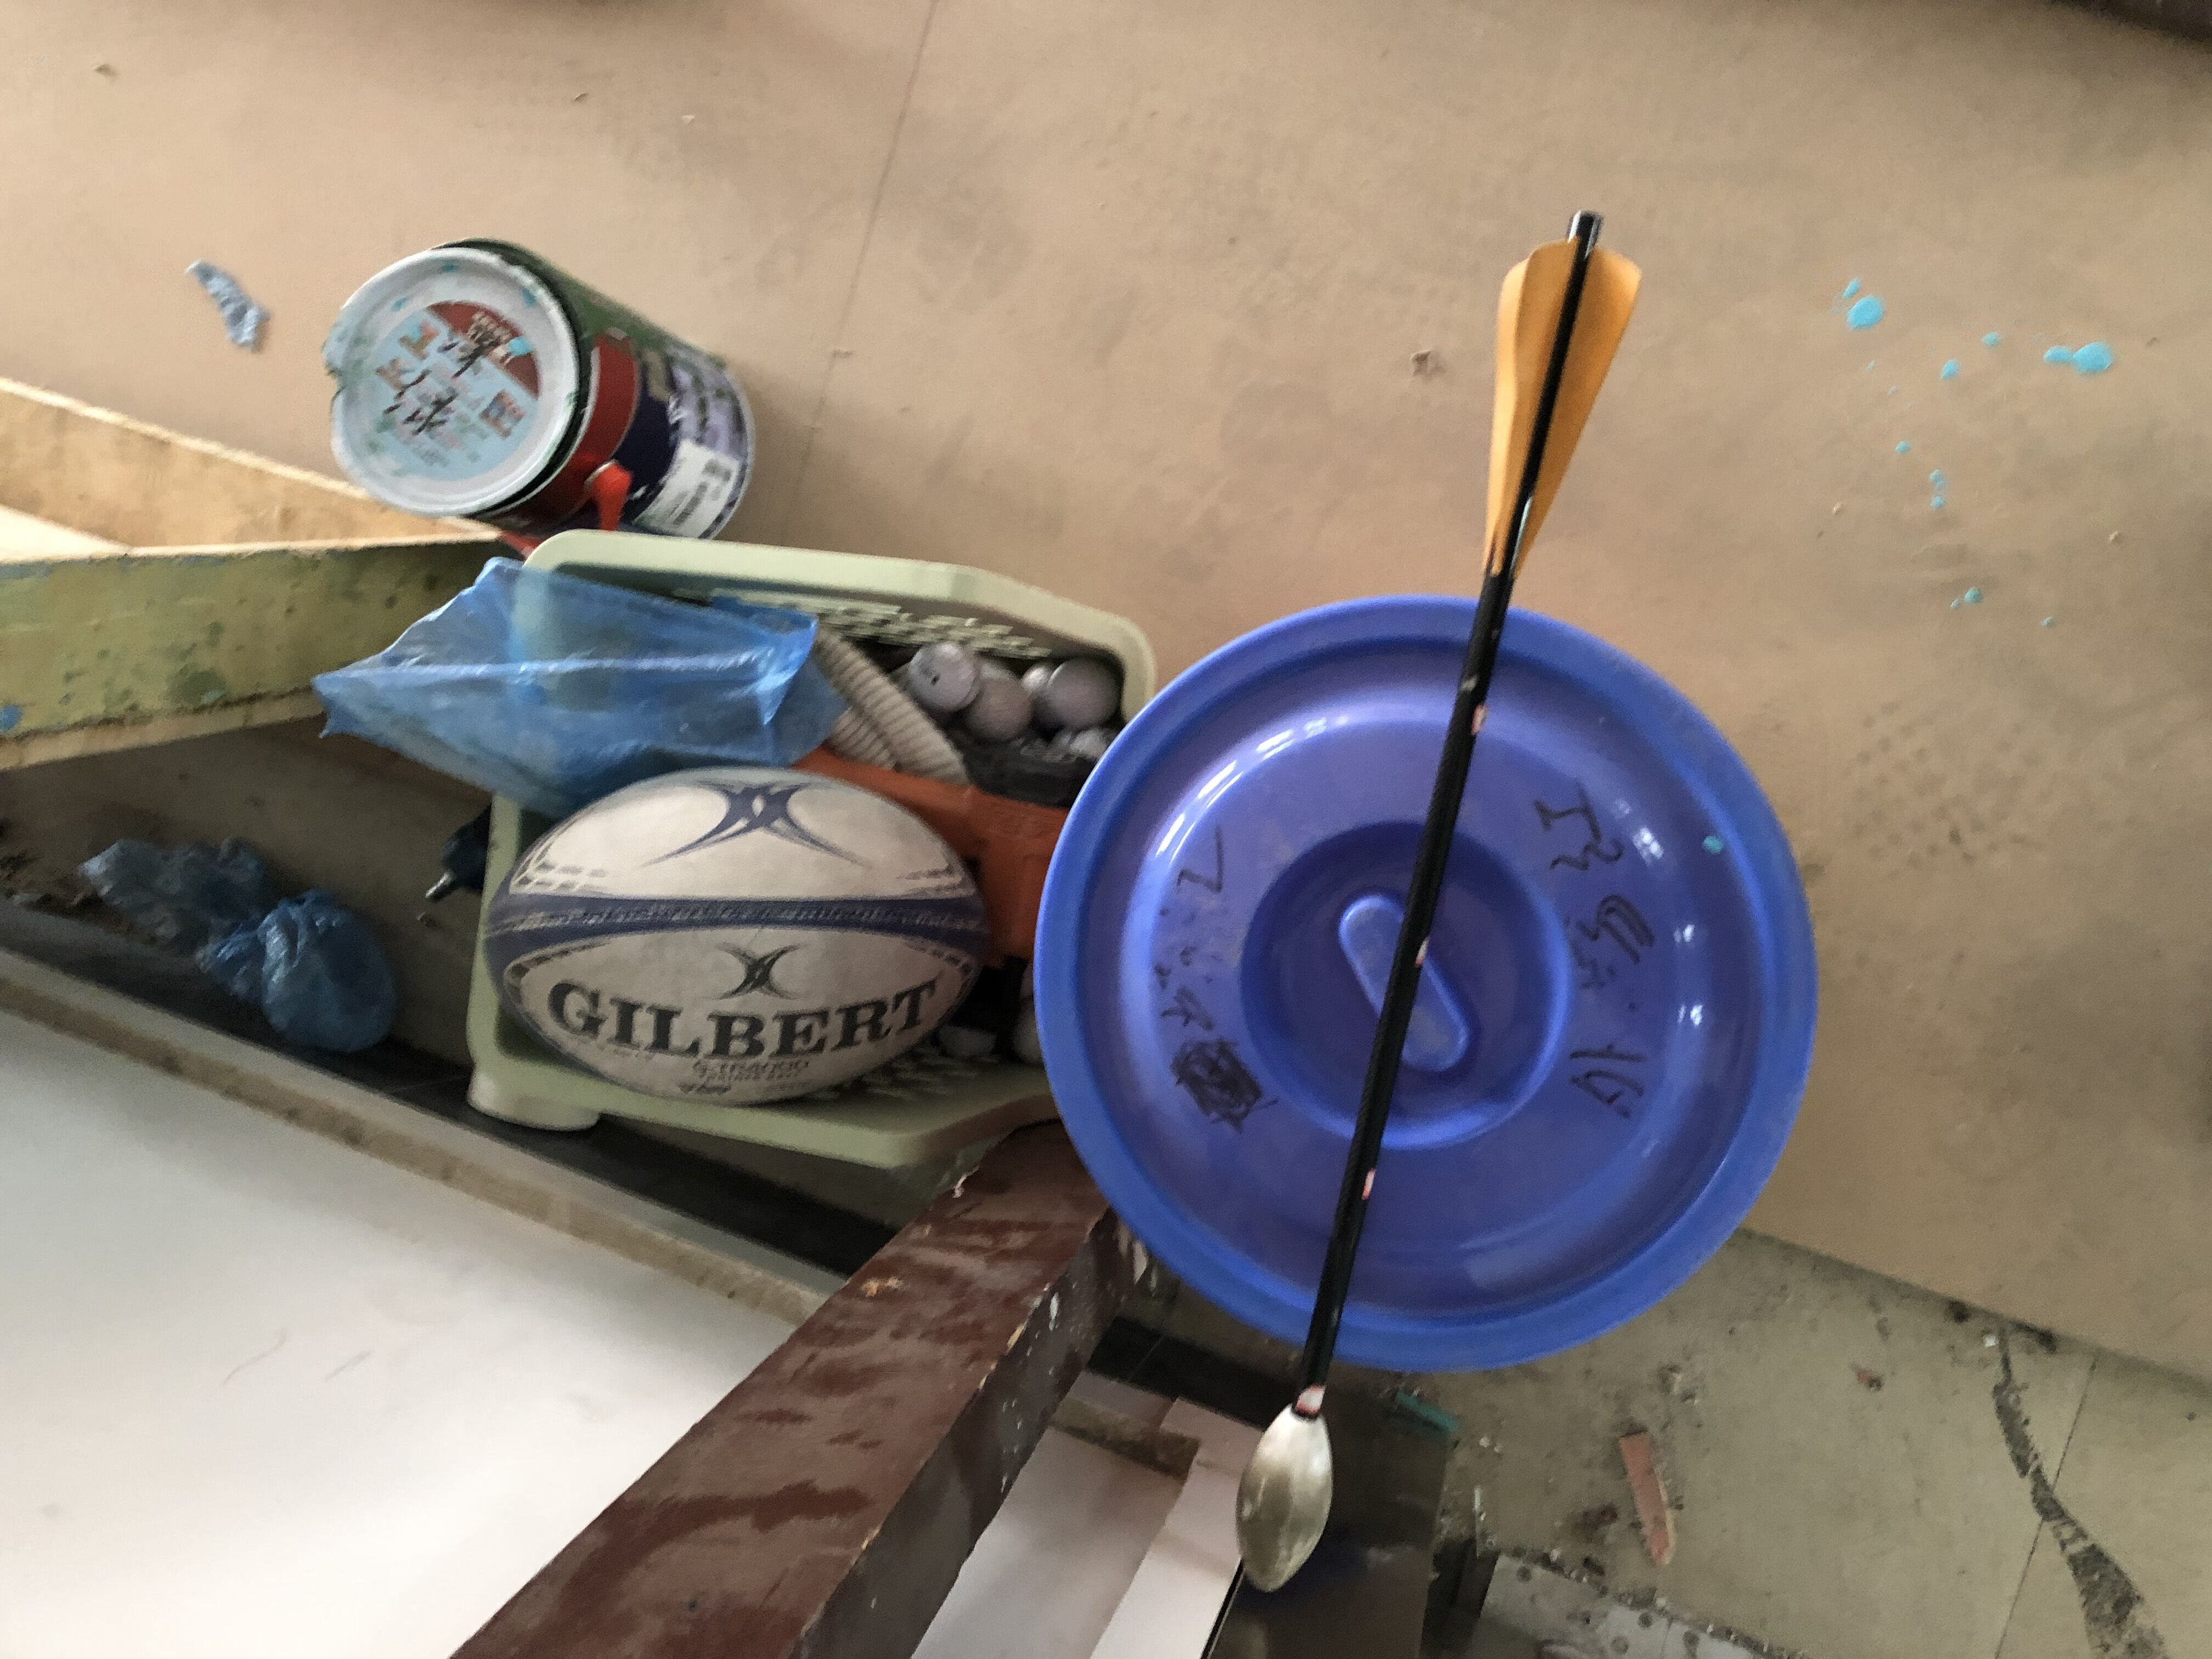arrow: (1231, 211, 1642, 1591)
arrowFront: (1231, 1398, 1338, 1589)
